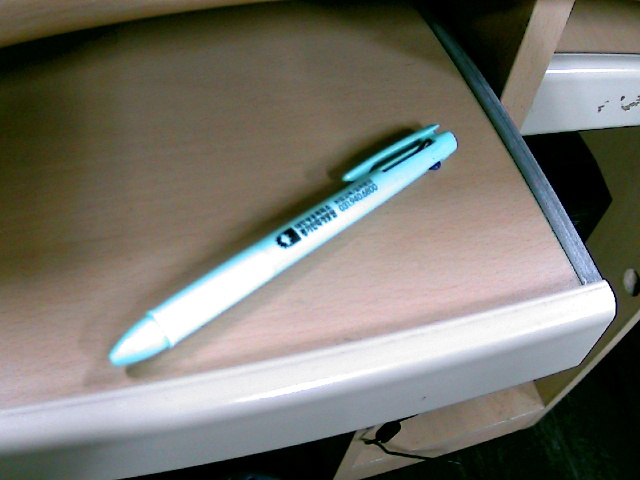pen: (107, 123, 457, 370)
